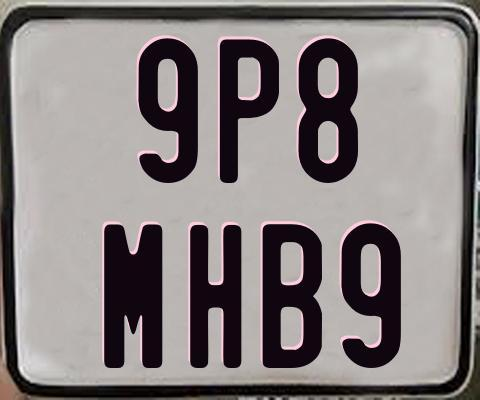8: (298, 36, 359, 183)
9: (137, 38, 203, 187), (341, 221, 404, 372)
B: (261, 221, 324, 365)
H: (187, 222, 244, 371)
M: (102, 223, 163, 370)
P: (217, 39, 276, 183)
